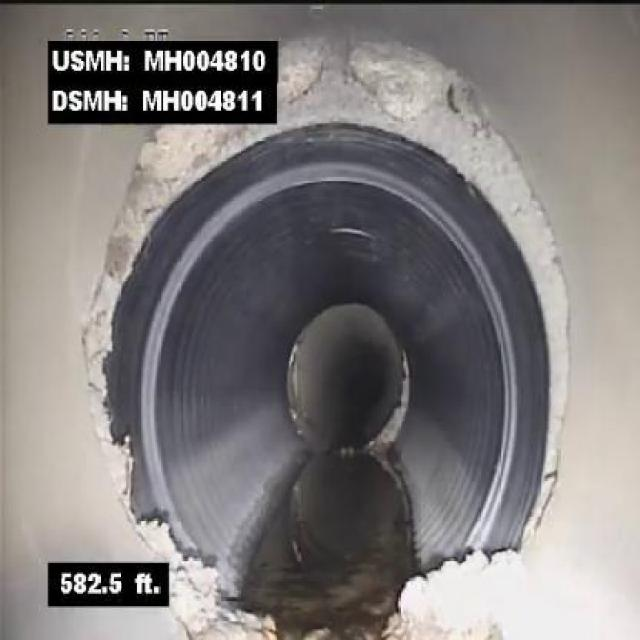Debris: (356, 546, 550, 639)
Joint offset: (69, 128, 222, 414), (284, 29, 570, 162), (448, 164, 578, 373)
